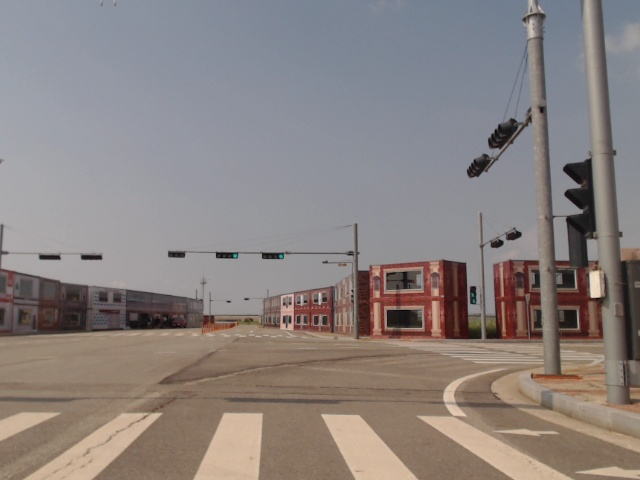straight_green_4: (262, 253, 284, 261), (215, 252, 240, 258)
